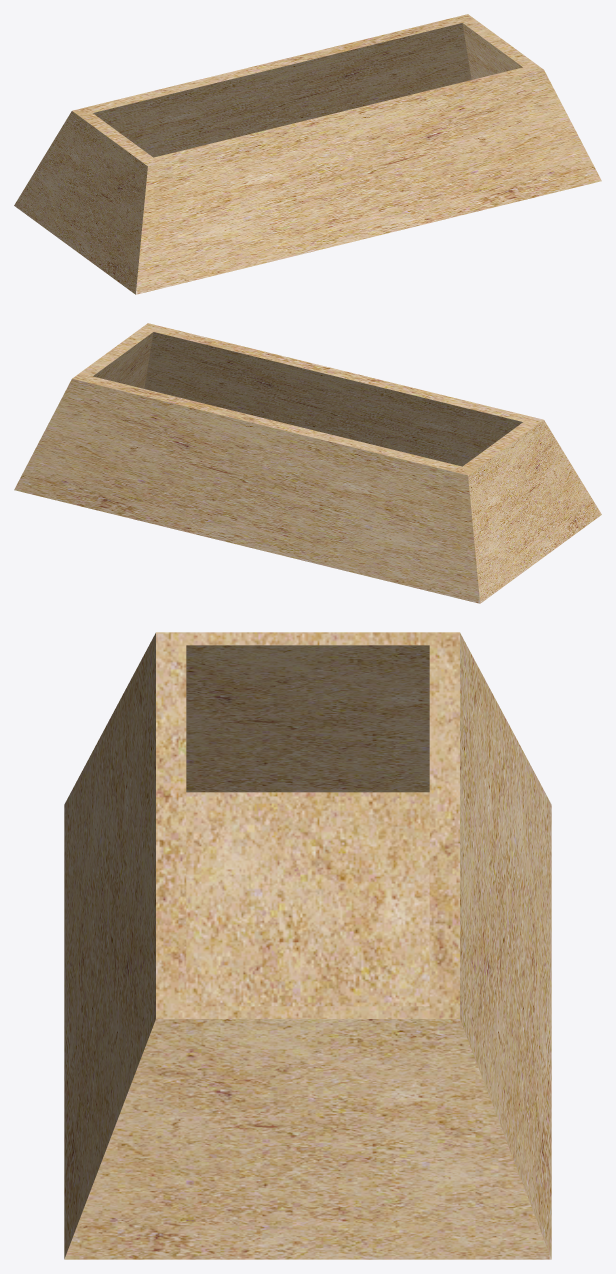
File: frn_all_planter_rectangular_s2.fbx
3 views of the same model, one above another, from view 1: azimuth 30°, elevation 25°; view 2: azimuth 150°, elevation 25°; view 3: azimuth 270°, elevation 25° (orthographic). The views are drawn at different scales.
Visible parts, largest first — view 1: mesh_node; view 2: mesh_node; view 3: mesh_node.
Part boxes in pixels (<box>): mesh_node: <box>14,14,601,294</box>; mesh_node: <box>14,323,601,603</box>; mesh_node: <box>64,632,551,1259</box>.
Size of the model in its own units: 0.5996 by 0.1268 by 0.2714.
1 material, 1 textured.
